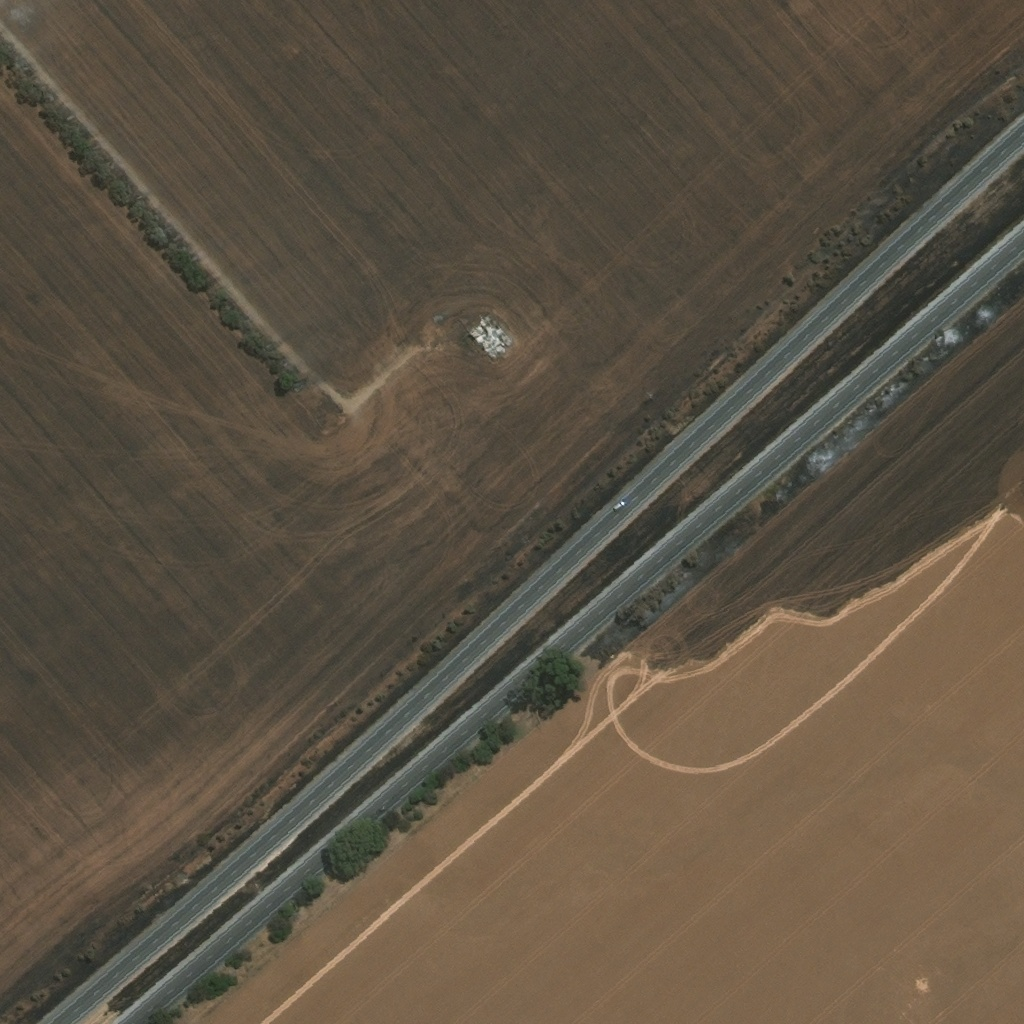3 destroyed: (467, 323, 506, 356)
